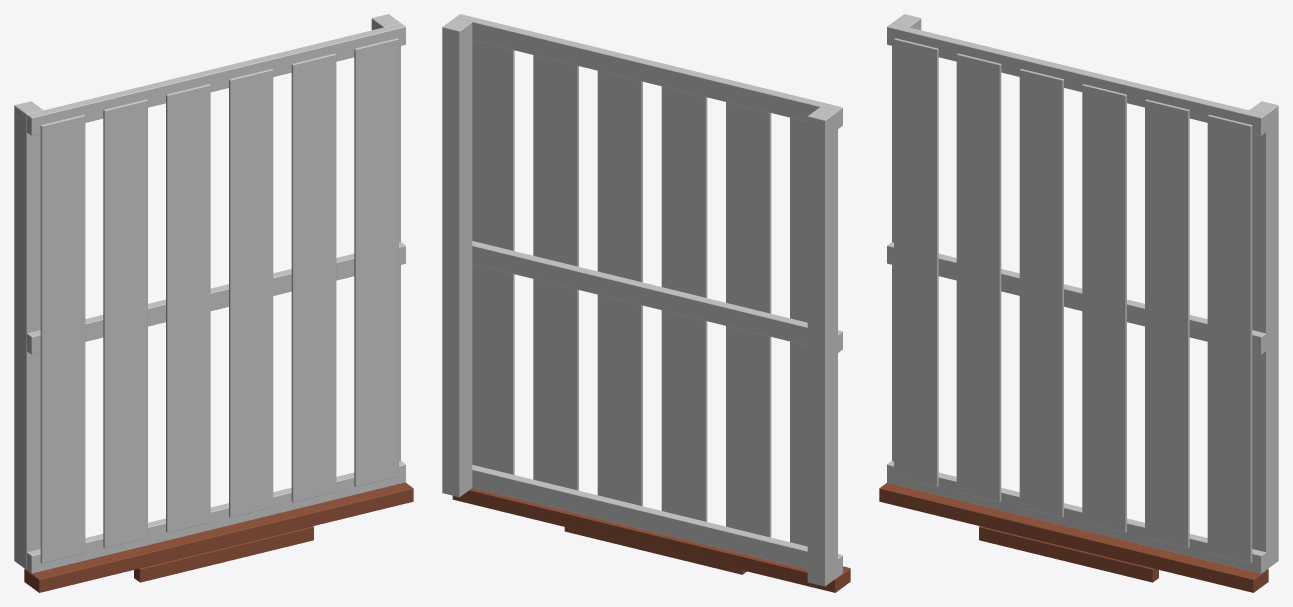
Rendered from pallet_racking_bay_left_pullout_frame.glb.
The picture shows the model from 3 angles, left to right: view 1: azimuth 30°, elevation 25°; view 2: azimuth 150°, elevation 25°; view 3: azimuth 330°, elevation 25°; orthographic projection. The views are drawn at different scales.
Parts seen in each view (by area): view 1: pallet_racking_bay_left_pullout_frame.001; view 2: pallet_racking_bay_left_pullout_frame.001; view 3: pallet_racking_bay_left_pullout_frame.001.
Part boxes in pixels (x1,y1,x2,y2): pallet_racking_bay_left_pullout_frame.001: (14, 14, 413, 592); pallet_racking_bay_left_pullout_frame.001: (442, 14, 850, 592); pallet_racking_bay_left_pullout_frame.001: (879, 14, 1278, 592).
Bounding box in the file's own units: 0.86 × 1.06 × 0.1025.
